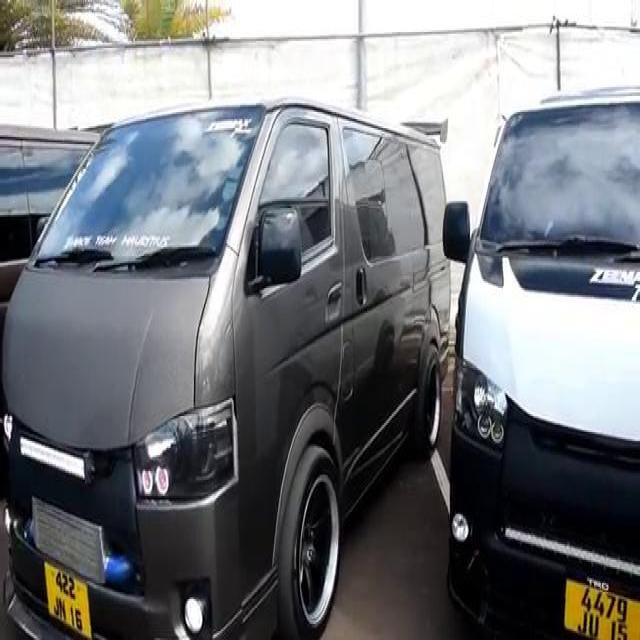Van: (2, 98, 458, 636)
